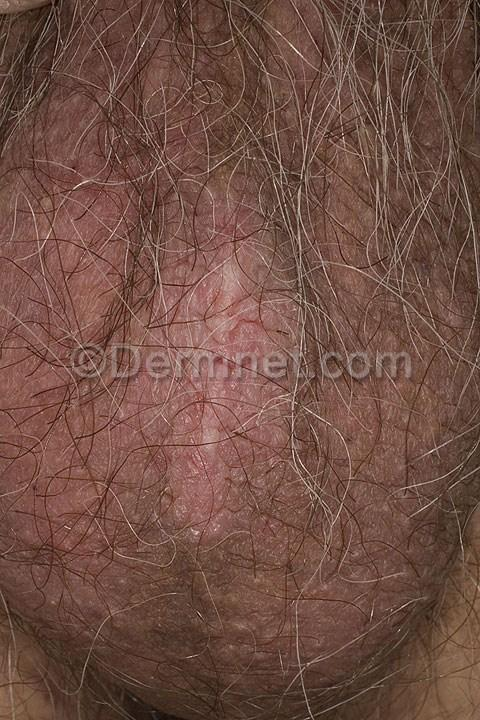Eczema: (159, 157, 322, 554), (335, 127, 412, 205), (40, 576, 149, 628), (48, 500, 141, 560), (405, 268, 470, 335), (378, 494, 435, 565), (190, 575, 263, 626), (393, 395, 448, 450), (11, 189, 82, 224), (301, 575, 361, 615), (210, 638, 275, 669), (311, 633, 359, 661)
